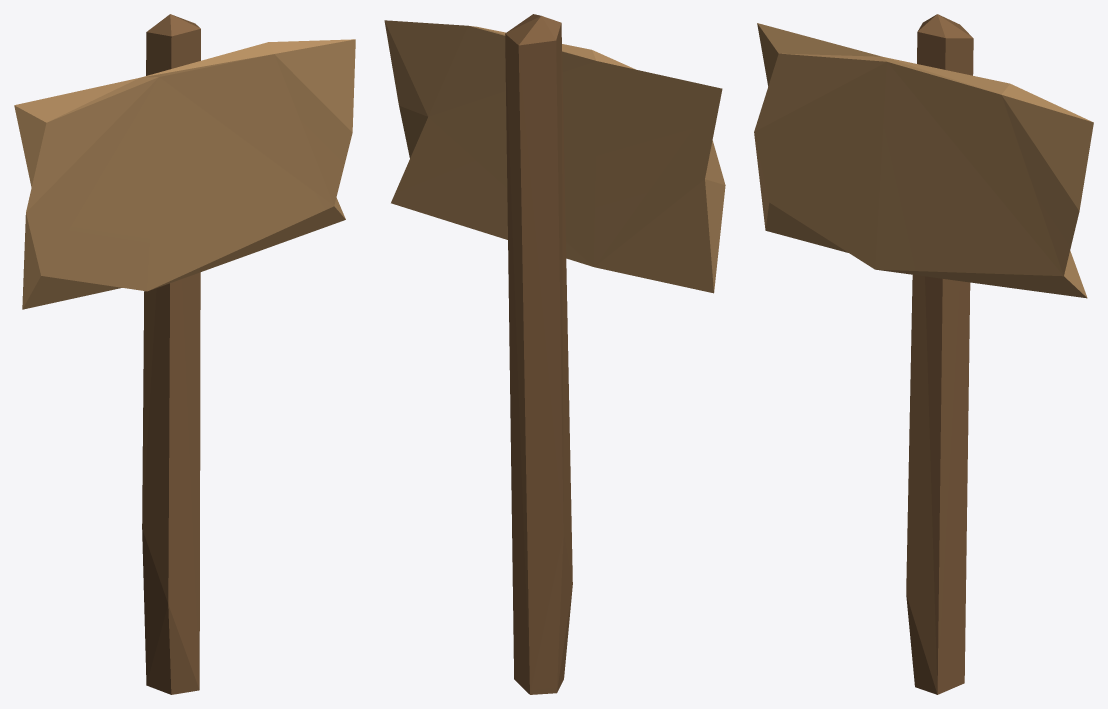
File: Pointer_01.fbx
3 renders of one model, left to right at view 1: azimuth 30°, elevation 25°; view 2: azimuth 150°, elevation 25°; view 3: azimuth 330°, elevation 25°, orthographic.
Visible parts, largest first — view 1: Pointer_01; view 2: Pointer_01; view 3: Pointer_01.
Part boxes in pixels (x1,y1,x2,y2): Pointer_01: [14, 14, 355, 694]; Pointer_01: [384, 14, 725, 694]; Pointer_01: [754, 14, 1093, 694].
Bounding box in the file's own units: 0.9024 × 1.7 × 0.1626.
